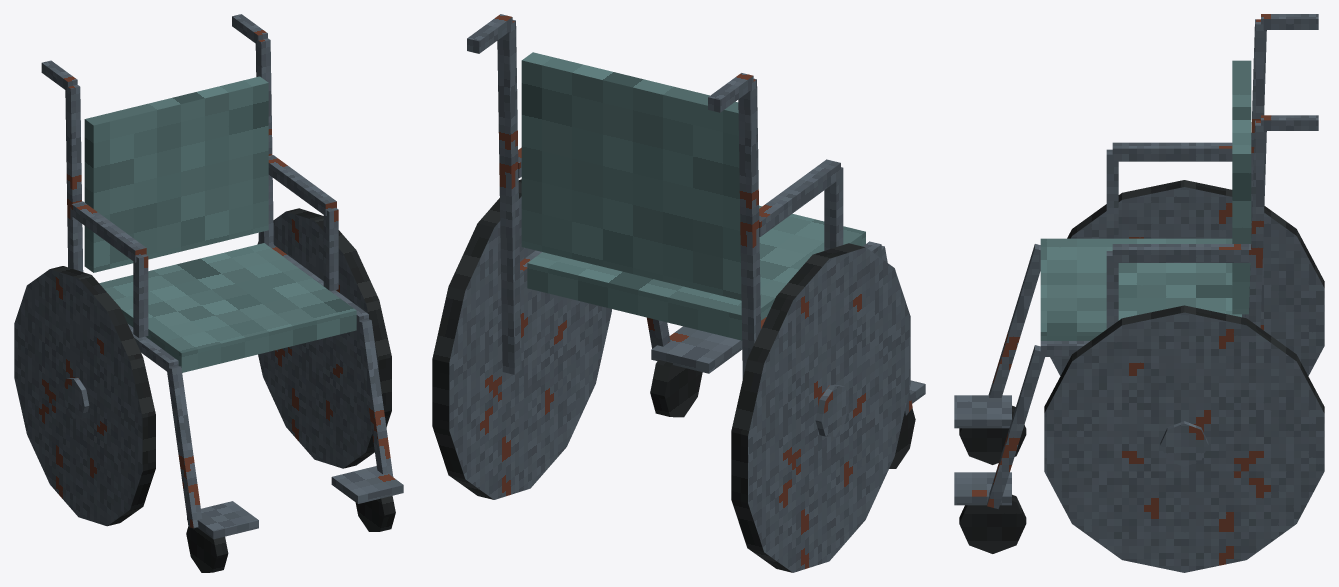
File: wheelchair.gltf
3 renders of one model, left to right at view 1: azimuth 30°, elevation 25°; view 2: azimuth 150°, elevation 25°; view 3: azimuth 270°, elevation 25°, orthographic. The views are drawn at different scales.
Visible parts, largest first — view 1: wheelchair; view 2: wheelchair; view 3: wheelchair.
Part boxes in pixels (<box>): wheelchair: <box>14,14,403,572</box>; wheelchair: <box>432,14,925,572</box>; wheelchair: <box>954,14,1324,572</box>.
Size of the model in its own units: 0.68 by 1.01 by 0.7725.
Materials: 3 (3 with a texture image).
